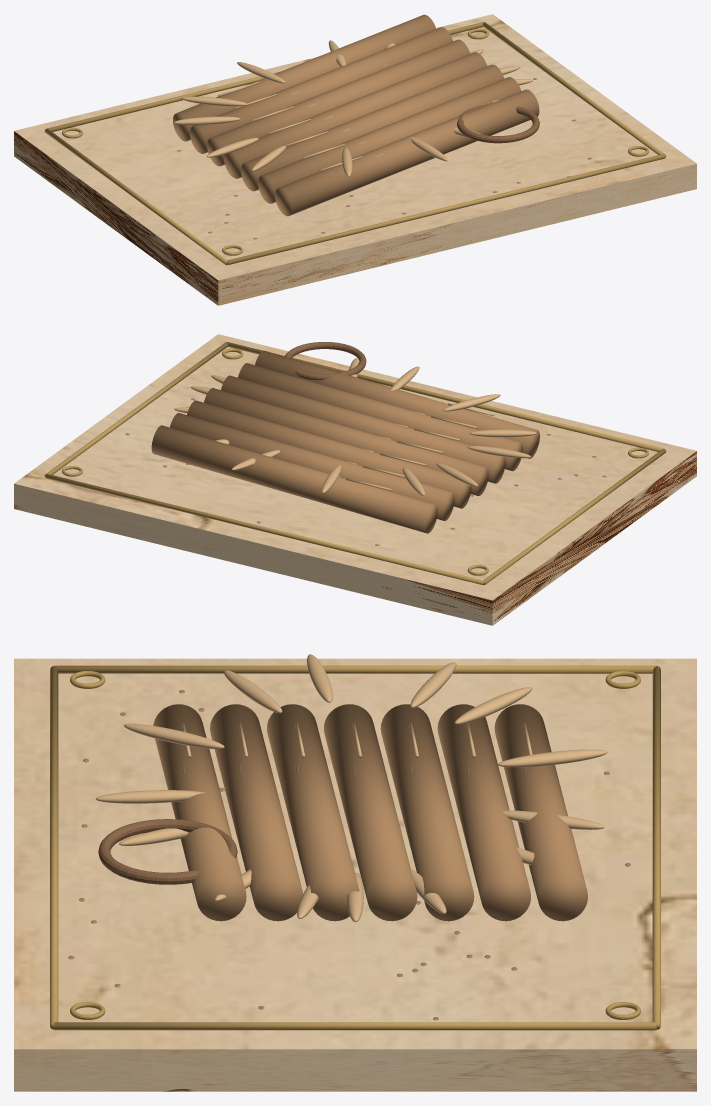
Rendered from afterglow-sandalwood.glb.
The picture shows the model from 3 angles, top to bottom: view 1: azimuth 30°, elevation 25°; view 2: azimuth 150°, elevation 25°; view 3: azimuth 270°, elevation 25°; orthographic projection. The views are drawn at different scales.
Visible parts, largest first — view 1: Handmade parchment card, Hand split sandalwood, Hand split sandalwood.003, Hand split sandalwood.001, Hand split sandalwood.005, Hand split sandalwood.004, Hand split sandalwood.002, Hand split sandalwood.006, Gilt border.002, Gilt border.003, Gilt border, Gilt border.001 (+2 smaller); view 2: Handmade parchment card, Hand split sandalwood.006, Hand split sandalwood.002, Hand split sandalwood.004, Hand split sandalwood.003, Hand split sandalwood.005, Hand split sandalwood.001, Hand split sandalwood, Gilt border.003, Gilt border.002, Gilt border, Gilt border.001 (+2 smaller); view 3: Handmade parchment card, Hand split sandalwood.003, Hand split sandalwood.001, Hand split sandalwood.005, Hand split sandalwood.004, Hand split sandalwood.002, Hand split sandalwood.006, Hand split sandalwood, Gilt border.001, Gilt border, Gilt border.002, Gilt border.003 (+10 smaller).
Boxes of the visible parts, left/top/right/bottom form: Handmade parchment card: left=14, top=14, right=696, bottom=305; Hand split sandalwood: left=275, top=89, right=539, bottom=216; Hand split sandalwood.003: left=224, top=52, right=486, bottom=178; Hand split sandalwood.001: left=258, top=77, right=521, bottom=203; Hand split sandalwood.005: left=190, top=27, right=452, bottom=153; Hand split sandalwood.004: left=207, top=39, right=470, bottom=166; Hand split sandalwood.002: left=241, top=64, right=504, bottom=191; Hand split sandalwood.006: left=173, top=14, right=435, bottom=141; Gilt border.002: left=227, top=154, right=665, bottom=265; Gilt border.003: left=46, top=22, right=483, bottom=131; Gilt border: left=44, top=129, right=227, bottom=265; Gilt border.001: left=483, top=22, right=666, bottom=157; Handmade parchment card: left=14, top=334, right=696, bottom=625; Hand split sandalwood.006: left=151, top=425, right=437, bottom=533; Hand split sandalwood.002: left=221, top=375, right=505, bottom=483; Hand split sandalwood.004: left=187, top=400, right=471, bottom=508; Hand split sandalwood.003: left=204, top=388, right=488, bottom=496; Hand split sandalwood.005: left=170, top=413, right=454, bottom=520; Hand split sandalwood.001: left=238, top=363, right=522, bottom=471; Hand split sandalwood: left=255, top=350, right=539, bottom=458; Gilt border.003: left=45, top=474, right=483, bottom=585; Gilt border.002: left=227, top=342, right=664, bottom=451; Gilt border: left=483, top=449, right=666, bottom=584; Gilt border.001: left=44, top=342, right=227, bottom=477; Handmade parchment card: left=14, top=658, right=696, bottom=1091; Hand split sandalwood.003: left=323, top=704, right=417, bottom=921; Hand split sandalwood.001: left=210, top=704, right=302, bottom=921; Hand split sandalwood.005: left=437, top=704, right=530, bottom=921; Hand split sandalwood.004: left=380, top=704, right=474, bottom=921; Hand split sandalwood.002: left=267, top=704, right=359, bottom=921; Hand split sandalwood.006: left=494, top=704, right=587, bottom=921; Hand split sandalwood: left=153, top=704, right=246, bottom=921; Gilt border.001: left=54, top=1022, right=656, bottom=1030; Gilt border: left=54, top=665, right=656, bottom=673; Gilt border.002: left=50, top=666, right=58, bottom=1029; Gilt border.003: left=652, top=666, right=660, bottom=1029.
Bounding box in the file's own units: 2.76 × 0.4347 × 2.04.
Materials: 6 (1 with a texture image).
